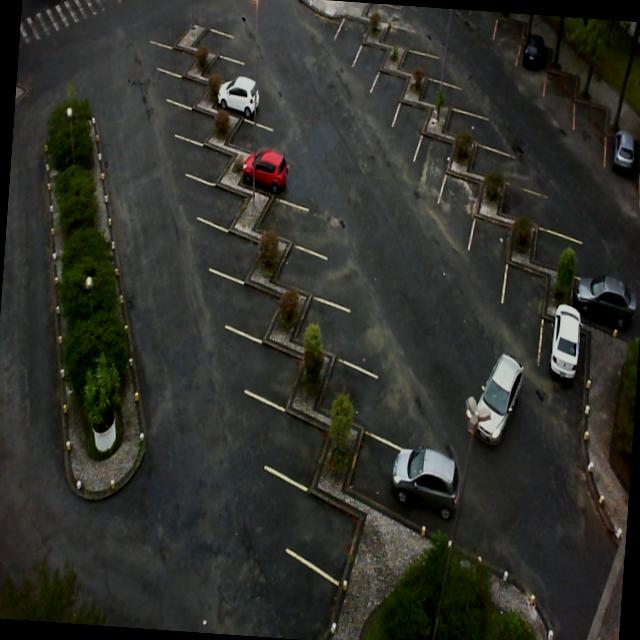car: (465, 349, 526, 445), (388, 446, 461, 524), (570, 269, 638, 328), (548, 306, 584, 382), (242, 146, 292, 191), (216, 73, 258, 119), (612, 131, 640, 178), (518, 28, 546, 72)
